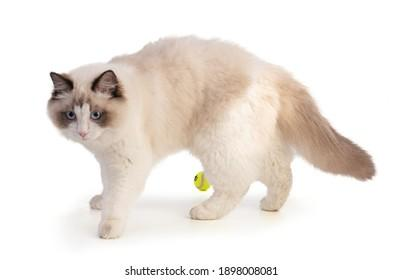ragdoll: (41, 52, 135, 159)
